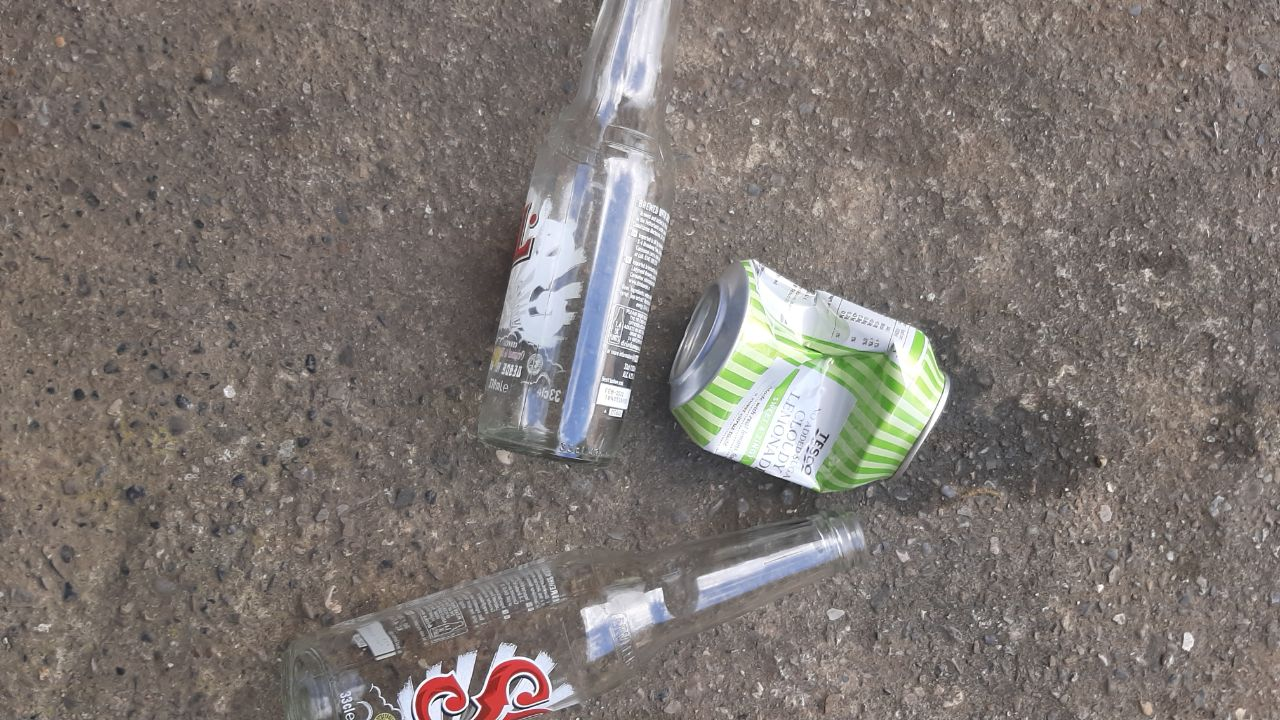Can: (656, 250, 958, 504)
